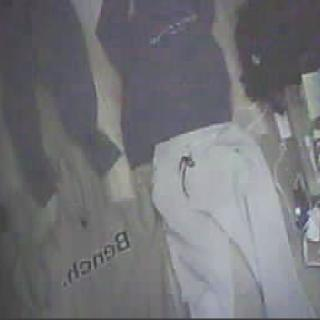Blue Hoodie: (112, 0, 235, 145)
Blue Sweatpants: (0, 0, 102, 177)
White Sweatpants: (142, 124, 308, 319)
Yellow Hoodie: (34, 157, 149, 320)
